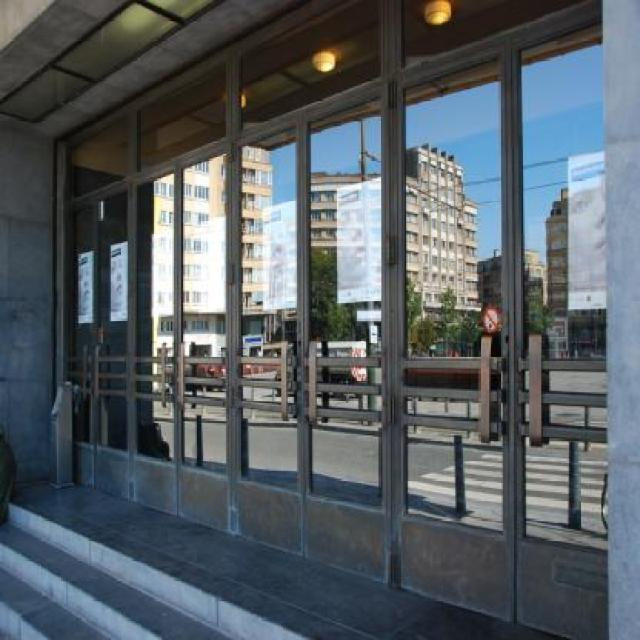stair: (0, 503, 314, 640)
